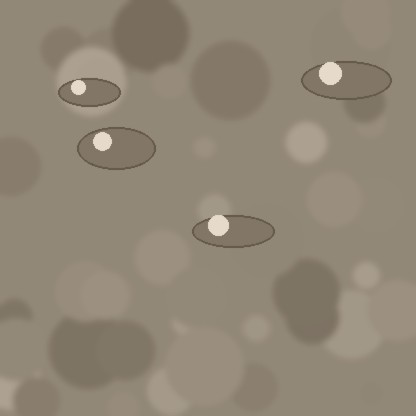gota: (301, 62, 391, 102), (77, 129, 155, 173), (192, 216, 274, 250), (58, 79, 120, 109)
